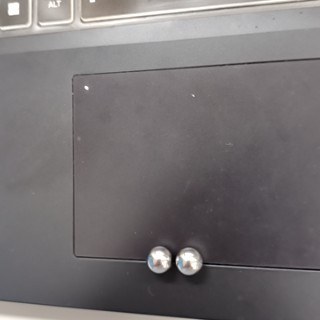ironball: (169, 233, 208, 285), (138, 238, 175, 279)
